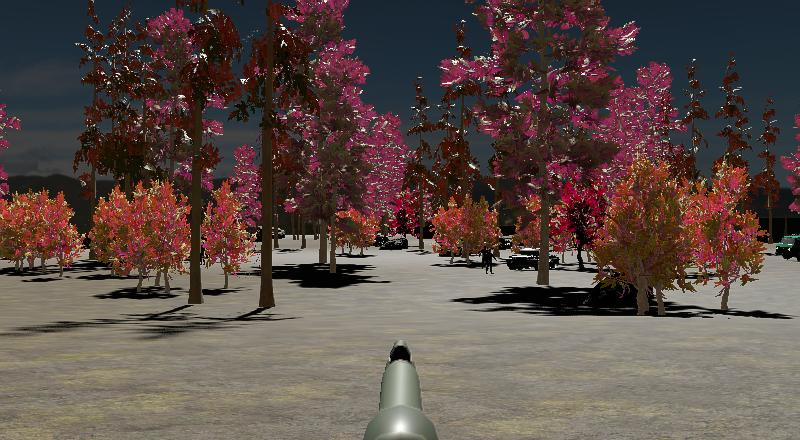Tank: (504, 242, 561, 273)
car: (775, 234, 800, 263)
